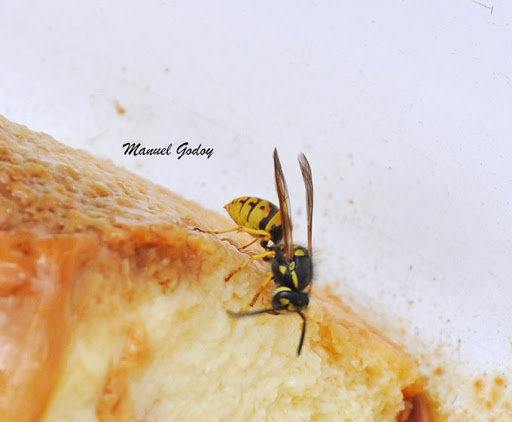chax: (217, 144, 336, 354)
